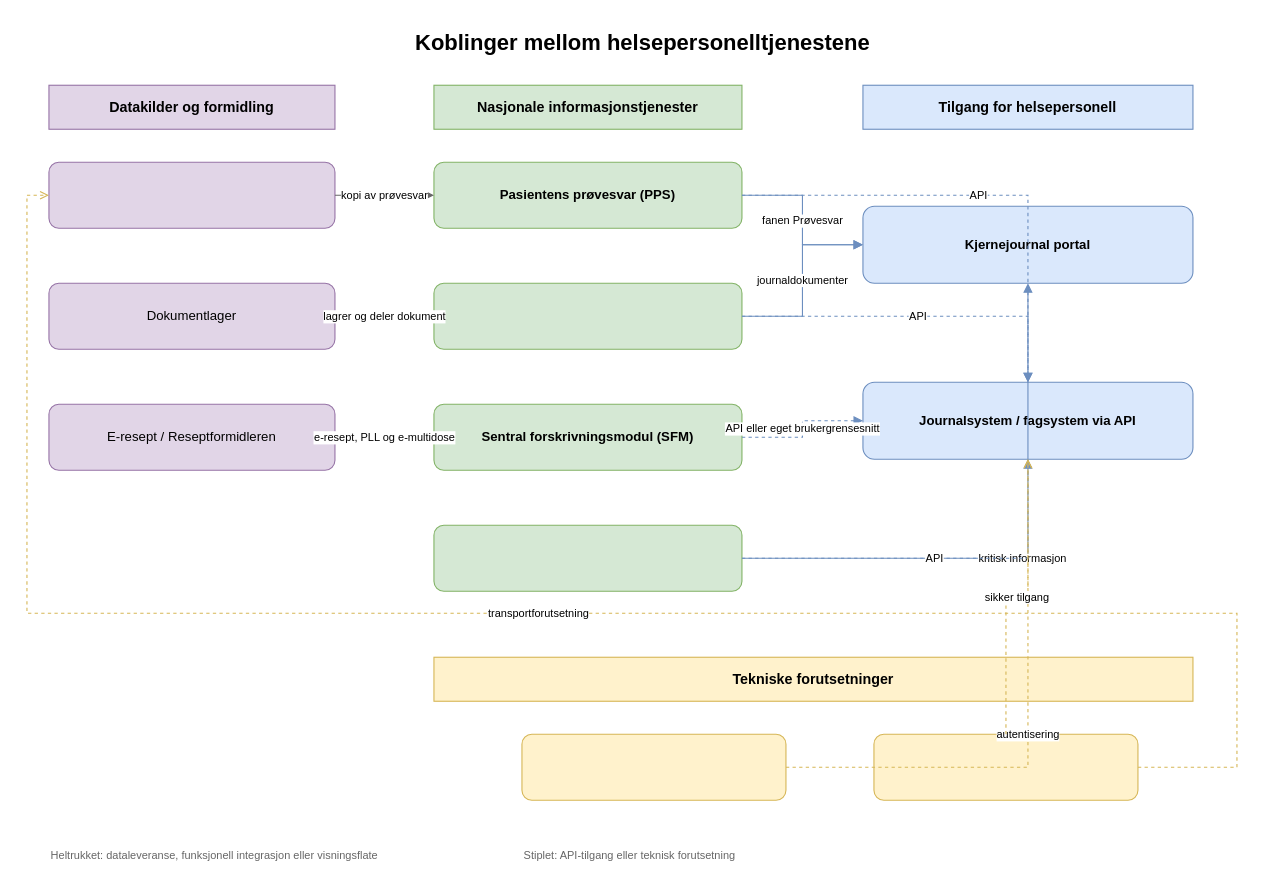
The diagram is 1265 pixels wide and 890 high, and some of its shapes have lost their labels. Here are the shapes that lost their labels. From the top down, the box of each, then its label:
(48, 161, 335, 228): Elektronisk meldingsutveksling
(433, 282, 742, 349): Pasientens journaldokumenter (PJD)
(433, 524, 742, 591): Pasientens kritiske informasjon
(521, 733, 786, 800): HelseID autentisering og tillit
(873, 733, 1138, 800): Helsenettforbindelse sikker nettverkstilgang
